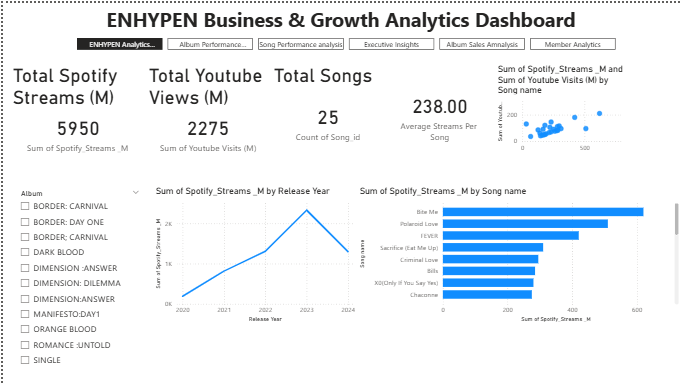

This screenshot's page, from the dashboard's own definition file:
{"tool":"powerbi","page":{"name":"ENHYPEN Analytics Dashboard","canvas":[1280,720],"ordinal":0},"visuals":[{"type":"card","title":"Total Spotify Streams (M)","fields":{"Values":["Sum(Songs.Spotify_Streams _M)"]},"box":[14,115.8,256.1,175.4],"z":0},{"type":"card","title":"Total Youtube Views (M)","fields":{"Values":["Sum(Songs.Youtube Visits (M))"]},"box":[270.2,115.8,235.1,175.4],"z":1000},{"type":"card","title":"Total Songs","fields":{"Values":["CountNonNull(Songs.Song_id)"]},"box":[505.3,115.8,215.8,175.4],"z":2000},{"type":"clusteredBarChart","fields":{"Category":["Songs.Song name"],"Y":["Sum(Songs.Spotify Streams (M))"]},"box":[668.4,345.6,612.3,261.4],"z":3000},{"type":"lineChart","fields":{"Category":["Songs.Release Year"],"Y":["Sum(Songs.Spotify Streams (M))"]},"box":[282.5,345.6,386,261.4],"z":4000},{"type":"slicer","fields":{"Values":["Songs.Album"]},"box":[21.1,345.6,249.1,357.9],"z":5000},{"type":"card","fields":{"Values":["Songs.Average Streams Per Song"]},"box":[721.1,115.8,207,175.4],"z":6000},{"type":"textbox","box":[115.9,0,1044.8,89],"z":7000},{"type":"scatterChart","fields":{"X":["Sum(Songs.Spotify_Streams _M)"],"Y":["Sum(Songs.Youtube Visits (M))"],"Category":["Songs.Song name"]},"box":[928.1,115.8,254.4,175.4],"z":8000},{"type":"pageNavigator","box":[140.4,66.7,1021.1,22.8],"z":8001}]}

Visuals, with their boxes in screenshot pixels (x1, y1, x2, y2), scaled from the page's 1280x720 canvas onto the 682x385 screenshot:
"Total Spotify Streams (M)" card: box=[7, 62, 144, 156]
"Total Youtube Views (M)" card: box=[144, 62, 269, 156]
"Total Songs" card: box=[269, 62, 384, 156]
clusteredBarChart - Songs.Song name x Sum(Songs.Spotify Streams (M)): box=[356, 185, 681, 325]
lineChart - Songs.Release Year x Sum(Songs.Spotify Streams (M)): box=[151, 185, 356, 325]
slicer - Songs.Album: box=[11, 185, 144, 376]
card - Songs.Average Streams Per Song: box=[384, 62, 495, 156]
textbox: box=[62, 0, 618, 48]
scatterChart - Sum(Songs.Spotify_Streams _M) x Sum(Songs.Youtube Visits (M)): box=[495, 62, 630, 156]
pageNavigator: box=[75, 36, 619, 48]
